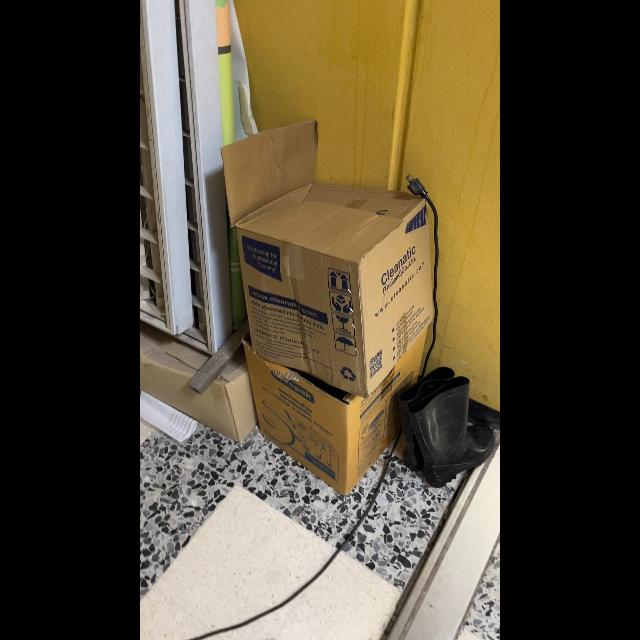cardboard_box: (220, 118, 434, 396), (242, 327, 434, 498)
